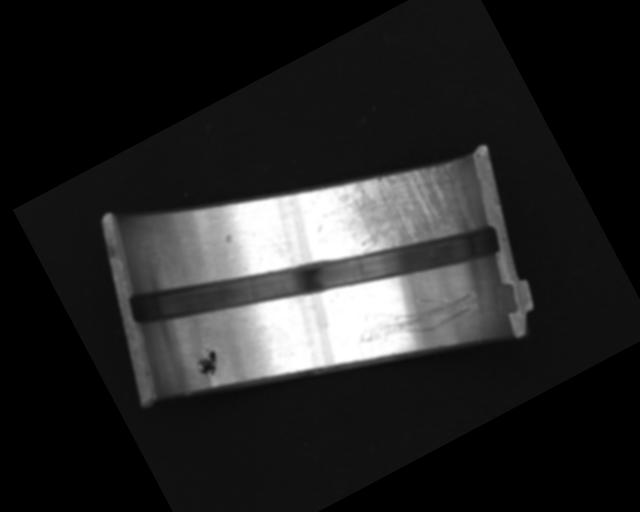blot: (189, 344, 224, 381)
bruise: (222, 232, 236, 246)
gap: (119, 129, 506, 418)
nick: (349, 266, 481, 366)
scratch: (309, 124, 489, 290)
